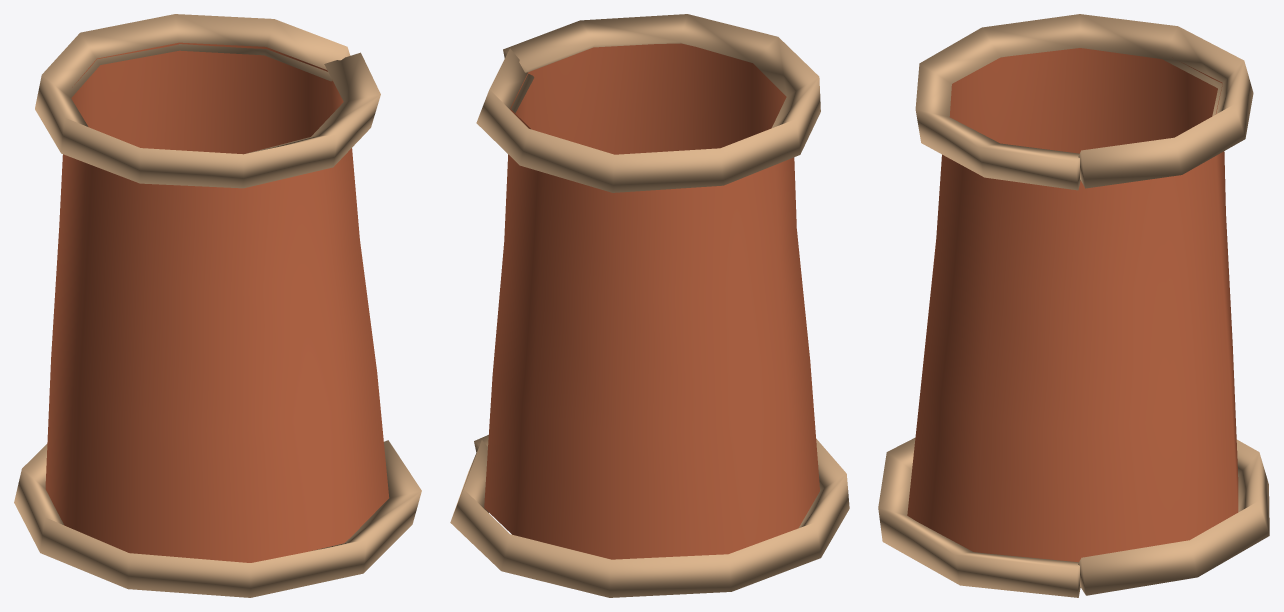
Rendered from palladium_armor_bracer.R.glb.
3 renders of one model, left to right at view 1: azimuth 30°, elevation 25°; view 2: azimuth 150°, elevation 25°; view 3: azimuth 270°, elevation 25°, orthographic.
Parts seen in each view (by area): view 1: palladium_armor_bracer.R; view 2: palladium_armor_bracer.R; view 3: palladium_armor_bracer.R.
Part boxes in pixels (box(x1,y1,x2,y2)): palladium_armor_bracer.R: box(14, 14, 421, 597); palladium_armor_bracer.R: box(450, 14, 849, 597); palladium_armor_bracer.R: box(878, 14, 1269, 597).
Size of the model in its own units: 0.1435 by 0.1719 by 0.1408.
